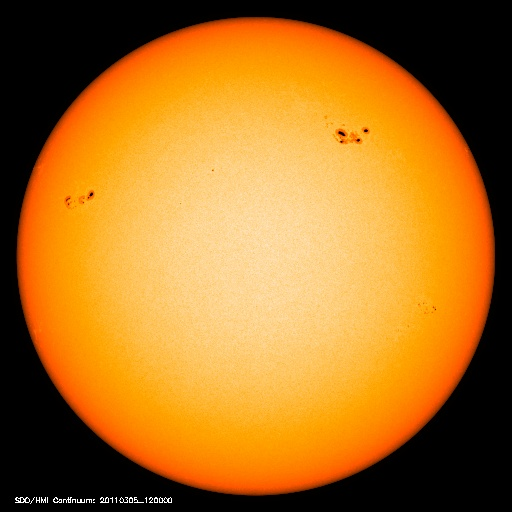sunspot: (313, 107, 381, 153), (58, 185, 98, 211), (412, 288, 442, 322)
